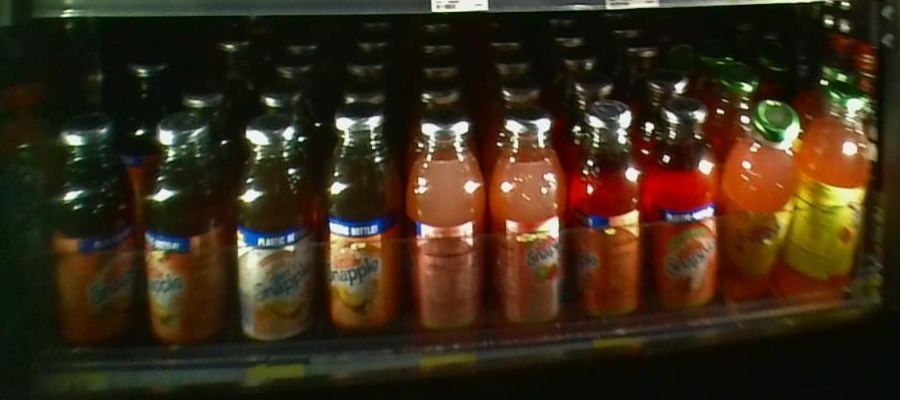bottle: (50, 108, 138, 371), (141, 104, 227, 371), (230, 108, 316, 370), (402, 93, 488, 355), (488, 88, 569, 354), (318, 105, 399, 354), (569, 85, 643, 351), (641, 92, 717, 337), (721, 93, 797, 332), (803, 76, 871, 327)
